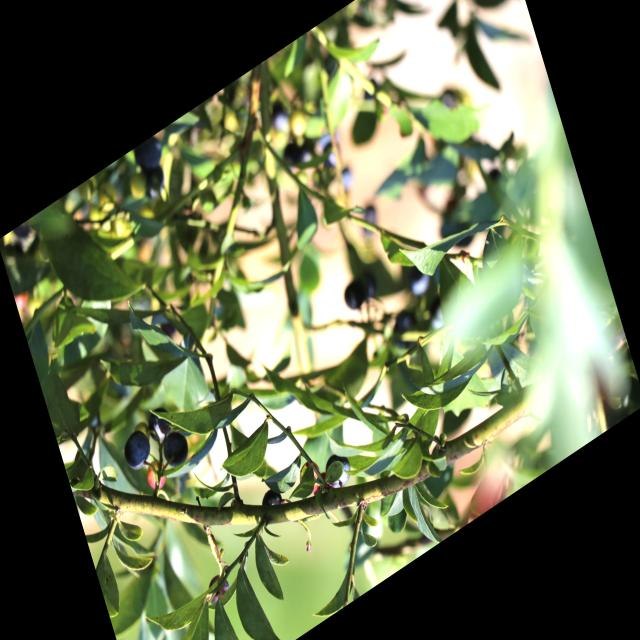blueberry: (118, 422, 157, 478), (160, 423, 194, 473), (322, 446, 355, 495), (146, 398, 178, 445), (258, 486, 285, 516)
